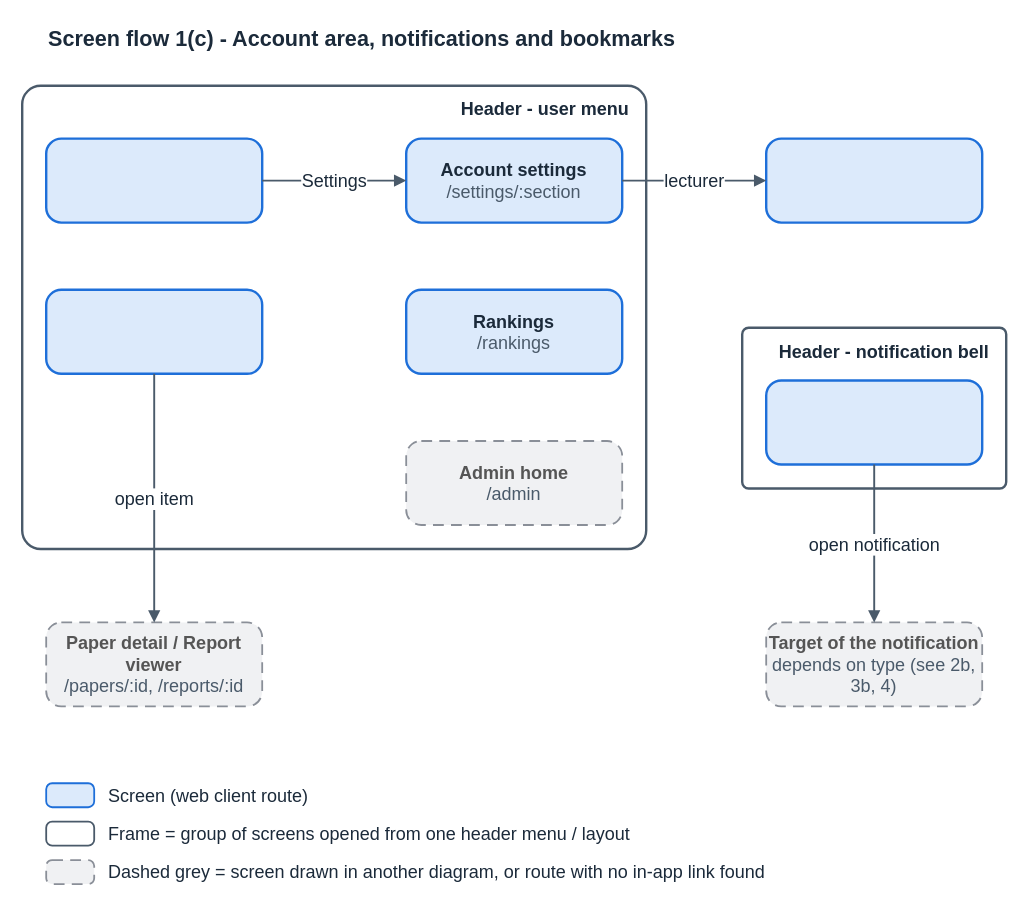
Image size: 1027x910. Some labels were removed from this diagram. The shapes that lost their labels are listed below. From the top down, each one's centre as x and y in pixels, then its label:
the point at 153,180: Profile /profile
the point at 873,180: Lecturer verification /settings/verification/lecturer
the point at 153,331: Bookmarks /bookmarks
the point at 873,422: Notifications /notifications
